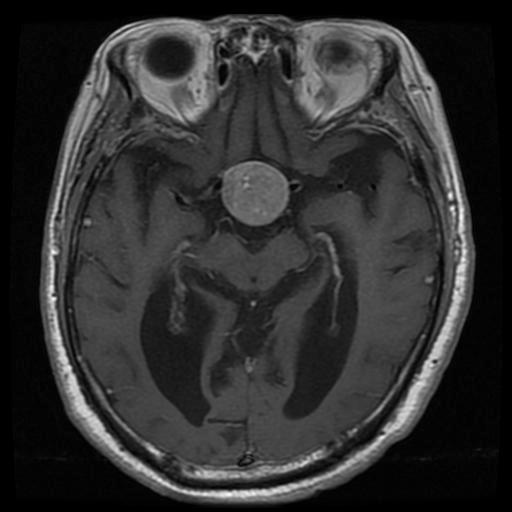Tumour-Pituitary: (216, 164, 294, 227)
